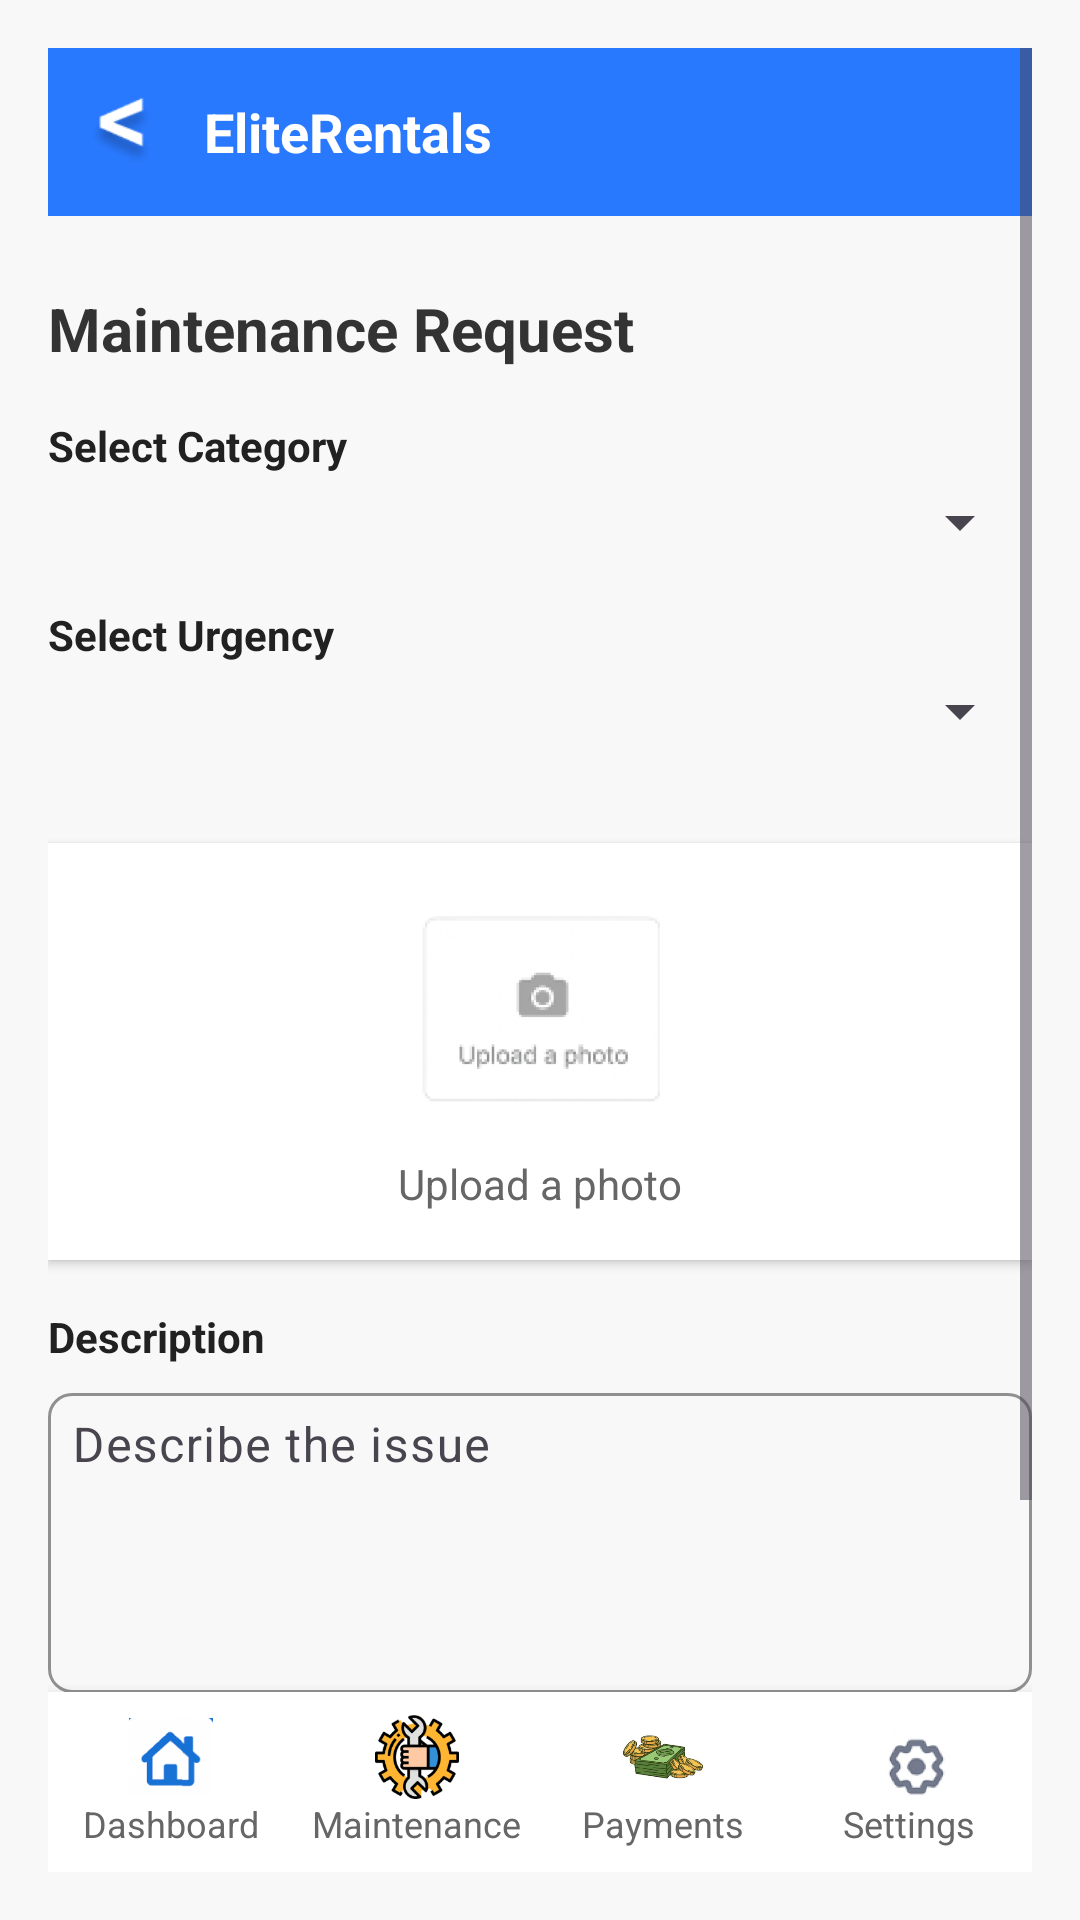

Icons on this 1080 x 1920 Android screen, each with its box as (x1, y1, x2, y2):
back: (99, 98, 144, 155)
home: (129, 1718, 213, 1787)
